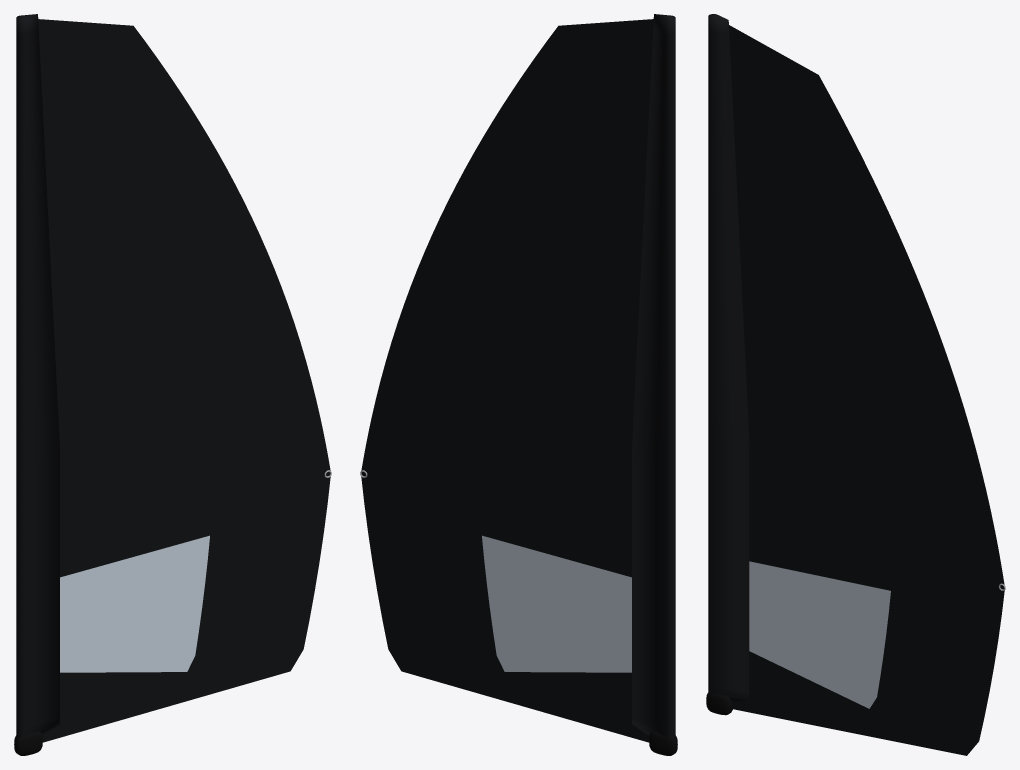
The model's file is point9_slalom_7_8.glb.
3 renders of one model, left to right at view 1: azimuth 30°, elevation 25°; view 2: azimuth 150°, elevation 25°; view 3: azimuth 330°, elevation 25°, orthographic. The views are drawn at different scales.
Visible parts, largest first — view 1: SailCloth, TackFairing; view 2: SailCloth, TackFairing; view 3: SailCloth.
Boxes of the visible parts, x1,y1,x2,y2 form: SailCloth: (16,14,330,742); TackFairing: (14,731,42,755); SailCloth: (361,14,675,742); TackFairing: (649,731,677,755); SailCloth: (708,14,1004,755).
Bounding box in the file's own units: 2.17 × 4.85 × 0.08.
